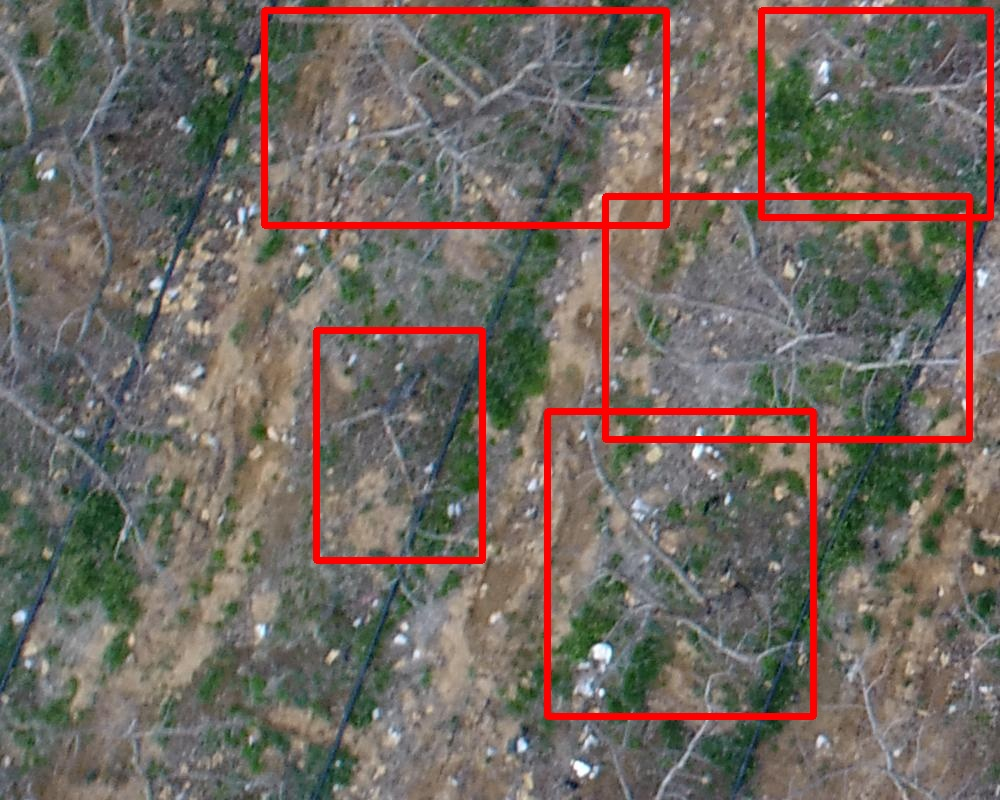apple: (605, 196, 969, 439), (264, 10, 666, 225), (547, 411, 813, 716), (761, 10, 990, 217), (316, 330, 482, 560)
